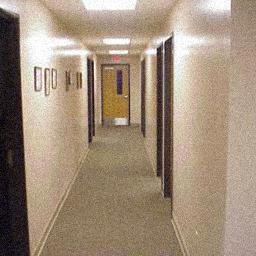Puerta: (164, 41, 173, 211), (156, 45, 164, 182)
